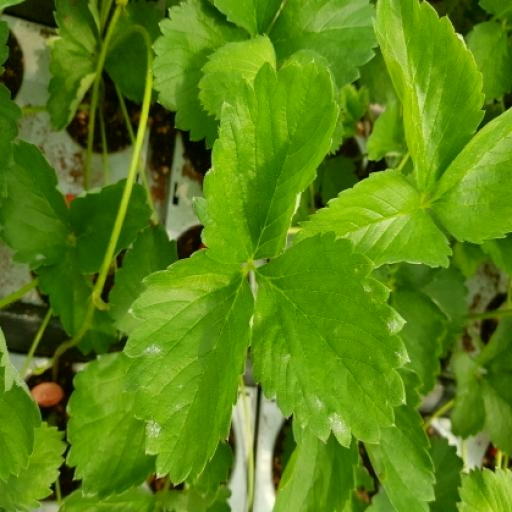Powdery Mildew Leaf: (100, 230, 264, 450), (255, 247, 392, 486), (171, 56, 322, 267), (25, 0, 143, 193)
